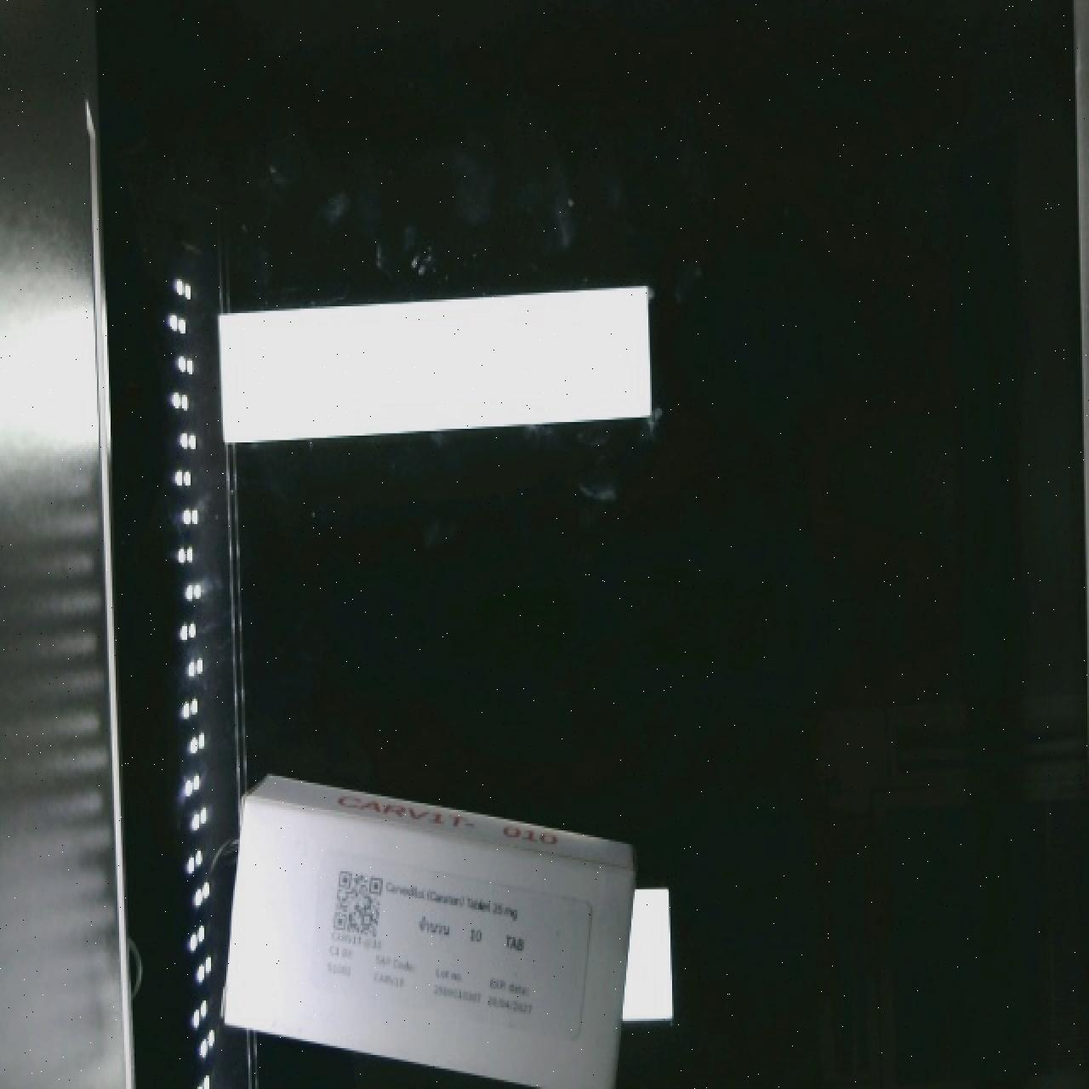qr_code: (325, 860, 390, 949)
